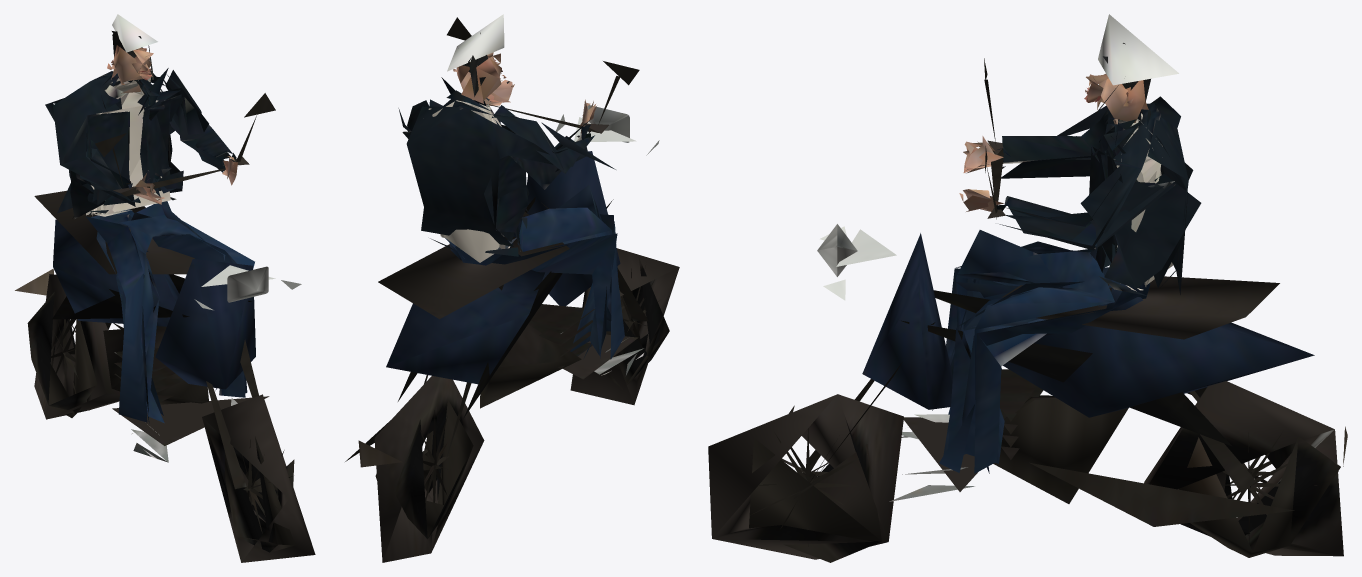
File: xe_may_01_chay_lod2.glb
3 renders of one model, left to right at view 1: azimuth 30°, elevation 25°; view 2: azimuth 150°, elevation 25°; view 3: azimuth 270°, elevation 25°, orthographic. The views are drawn at different scales.
Visible parts, largest first — view 1: xe_may_01_chay; view 2: xe_may_01_chay; view 3: xe_may_01_chay.
Boxes of the visible parts, left/top/right/bottom form: xe_may_01_chay: left=15, top=14, right=315, bottom=562; xe_may_01_chay: left=345, top=14, right=679, bottom=562; xe_may_01_chay: left=708, top=14, right=1347, bottom=562.
Bounding box in the file's own units: 0.7197 × 1.69 × 1.8.
Materials: 2 (2 with a texture image).
